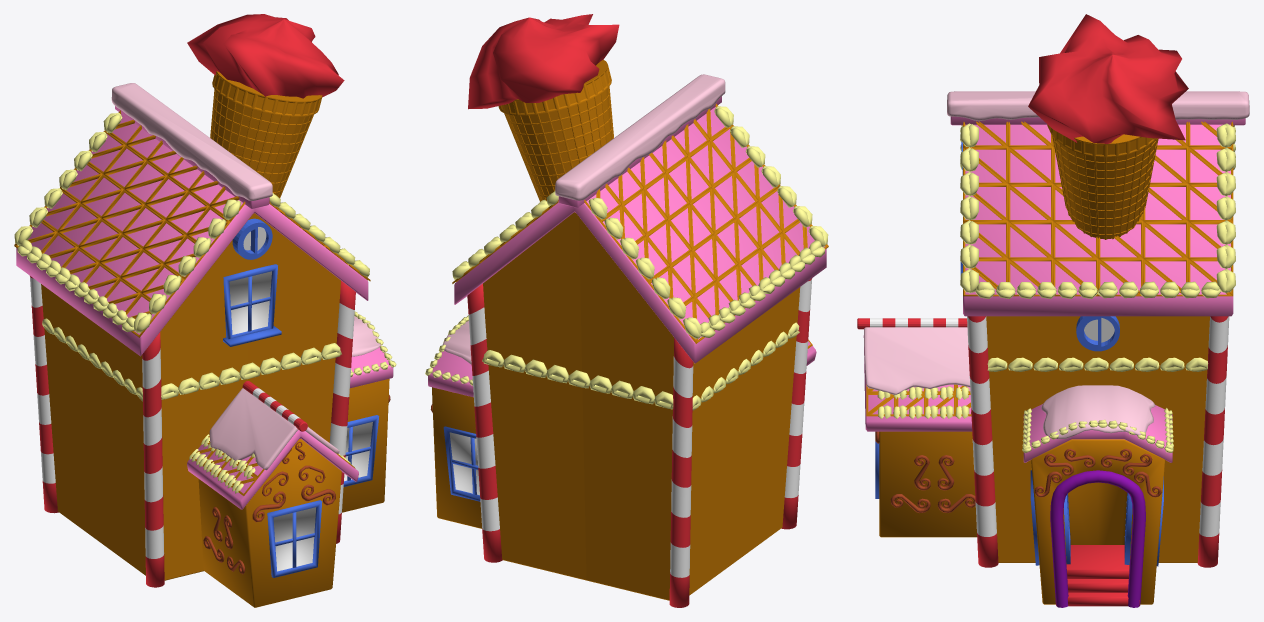
The model's file is CandyHouse.fbx.
3 views of the same model, side by side, from view 1: azimuth 30°, elevation 25°; view 2: azimuth 150°, elevation 25°; view 3: azimuth 270°, elevation 25° (orthographic). The views are drawn at different scales.
Visible parts, largest first — view 1: LittleCandyHouse, Cone; view 2: LittleCandyHouse, Cone; view 3: LittleCandyHouse, Cone.
Part boxes in pixels (x1,y1,x2,y2): LittleCandyHouse: [14, 83, 396, 607]; Cone: [187, 14, 344, 198]; LittleCandyHouse: [425, 74, 828, 607]; Cone: [468, 14, 619, 201]; LittleCandyHouse: [857, 91, 1249, 607]; Cone: [1028, 14, 1188, 239].
Bounding box in the file's own units: 333 × 520 × 357.
